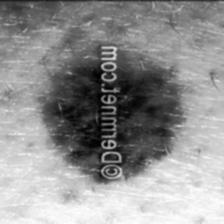Potentially Malignant Skin Tumors: (48, 60, 184, 176)
